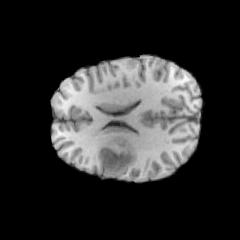glioma: (95, 137, 136, 176)
